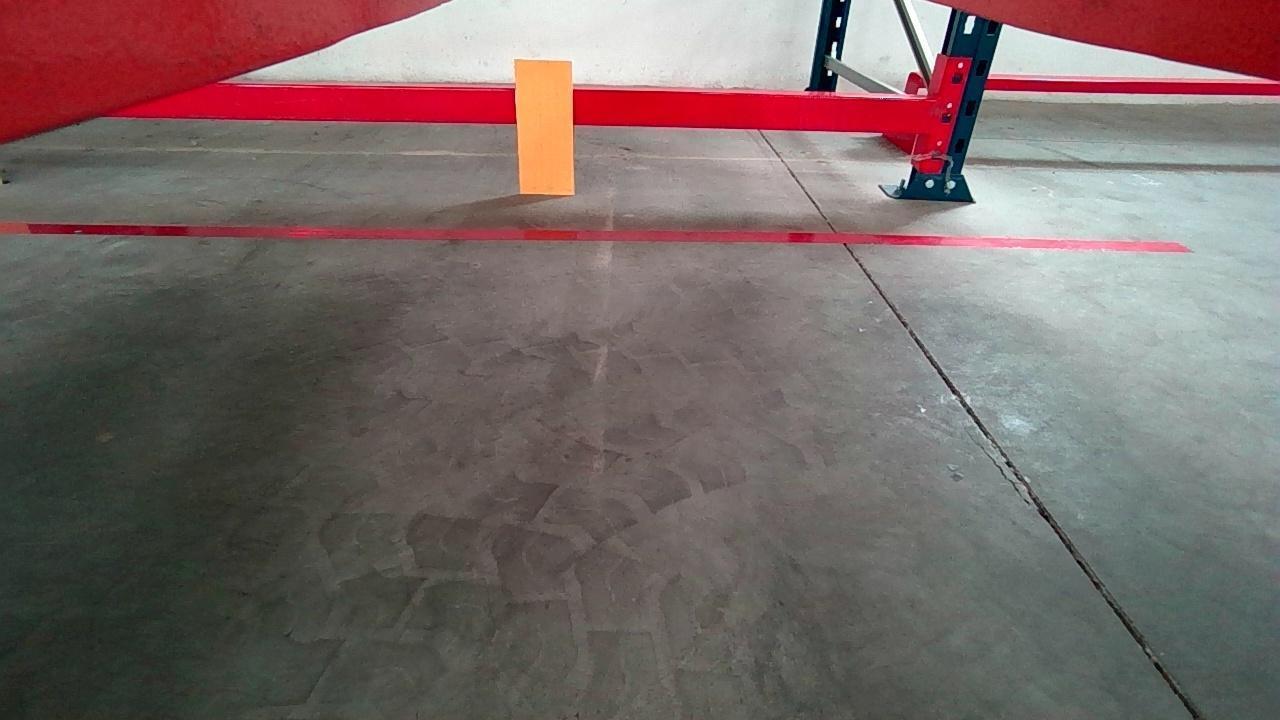h_rack: (104, 81, 956, 135)
orange_strip: (518, 60, 572, 197)
red_line: (0, 220, 1196, 254)
